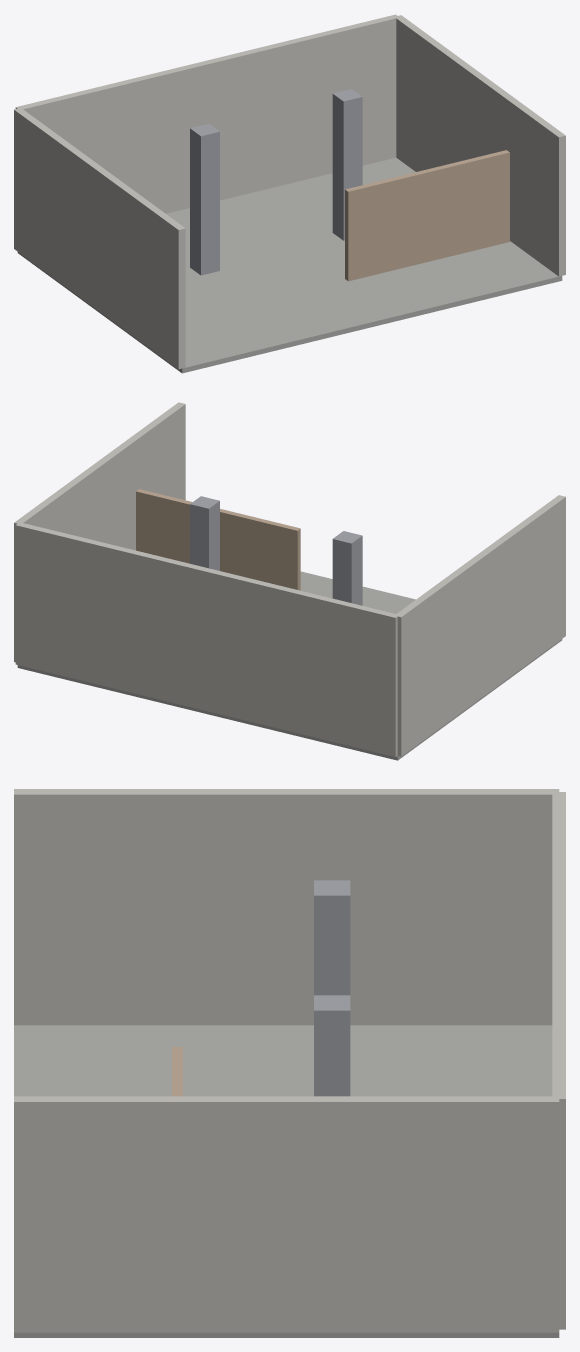
File: site-scan-week2.glb
3 views of the same model, one above another, from view 1: azimuth 30°, elevation 25°; view 2: azimuth 150°, elevation 25°; view 3: azimuth 270°, elevation 25° (orthographic). The views are drawn at different scales.
Visible parts, largest first — view 1: SiteScan; view 2: SiteScan; view 3: SiteScan.
Part boxes in pixels (x1,y1,x2,y2): SiteScan: (14, 14, 565, 373); SiteScan: (14, 402, 565, 760); SiteScan: (14, 789, 565, 1337).
Size of the model in its own units: 8.15 by 2.9 by 6.08.
